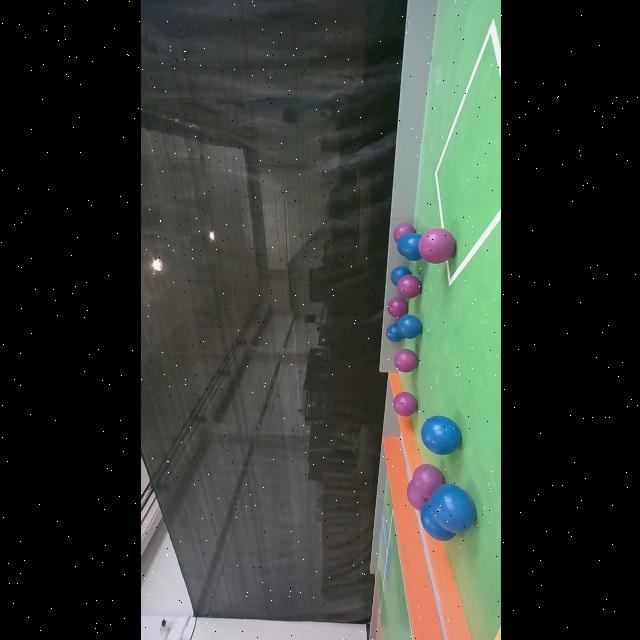B: (428, 484, 476, 534), (420, 415, 460, 455), (396, 316, 422, 338), (401, 233, 422, 260), (389, 266, 411, 286)
P: (418, 228, 454, 264), (403, 464, 427, 512), (415, 463, 441, 492), (392, 392, 418, 416), (393, 349, 417, 373), (398, 273, 420, 299), (387, 298, 408, 318)
